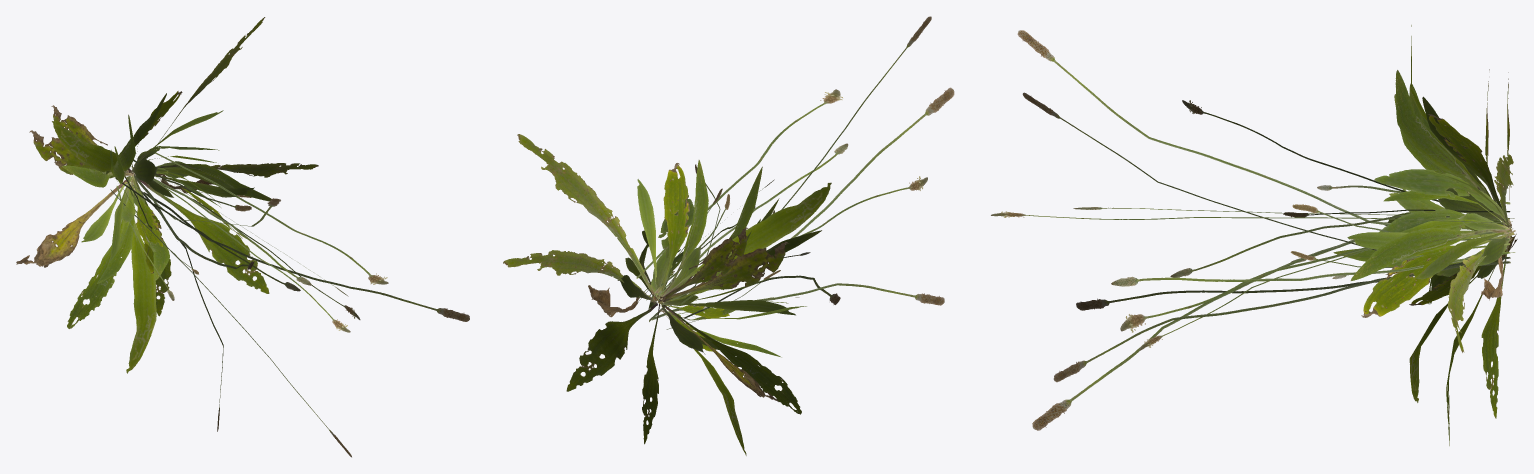
The model's file is Weed_04_Var1_LOD1.fbx.
3 renders of one model, left to right at view 1: azimuth 30°, elevation 25°; view 2: azimuth 150°, elevation 25°; view 3: azimuth 270°, elevation 25°, orthographic. The views are drawn at different scales.
Visible parts, largest first — view 1: Var1_LOD1; view 2: Var1_LOD1; view 3: Var1_LOD1.
Boxes of the visible parts, left/top/right/bottom form: Var1_LOD1: left=16, top=17, right=469, bottom=457; Var1_LOD1: left=503, top=16, right=954, bottom=455; Var1_LOD1: left=991, top=25, right=1517, bottom=445.
Size of the model in its own units: 44.9 by 43.73 by 56.72.
